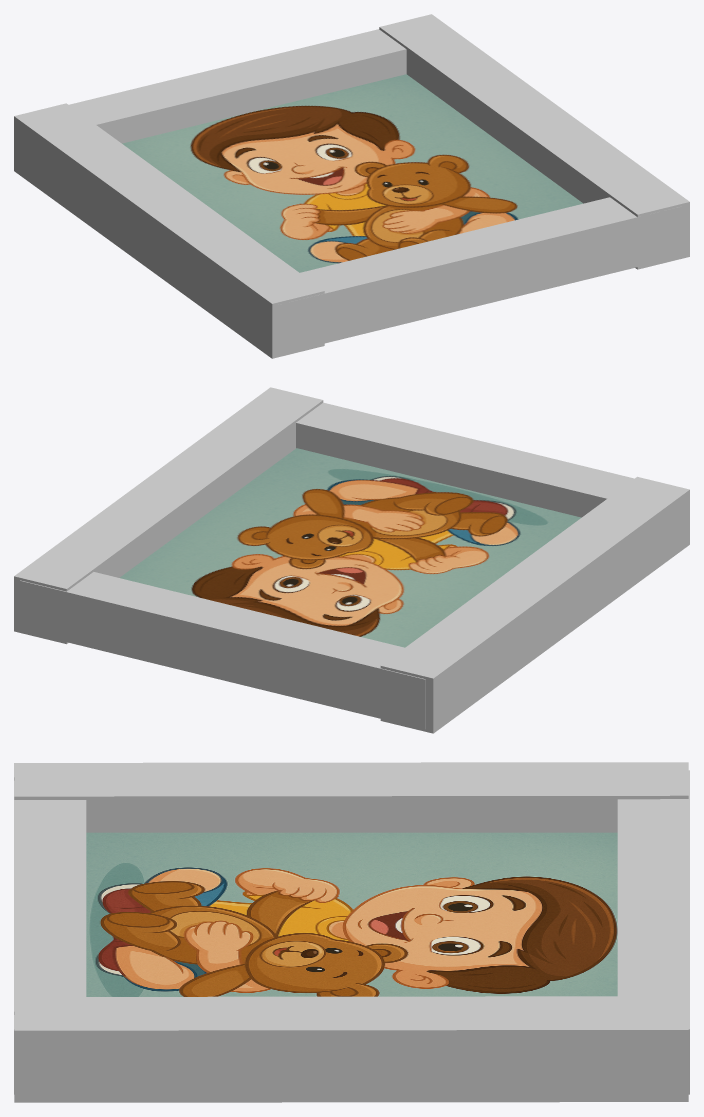
File: TommyYOso 1.fbx
3 renders of one model, top to bottom at view 1: azimuth 30°, elevation 25°; view 2: azimuth 150°, elevation 25°; view 3: azimuth 270°, elevation 25°, orthographic. The views are drawn at different scales.
Visible parts, largest first — view 1: Cube.003, Plane; view 2: Cube.003, Plane; view 3: Cube.003, Plane.
Boxes of the visible parts, left/top/right/bottom form: Cube.003: left=14, top=14, right=689, bottom=358; Plane: left=122, top=74, right=582, bottom=272; Cube.003: left=14, top=387, right=689, bottom=733; Plane: left=119, top=448, right=581, bottom=647; Cube.003: left=14, top=762, right=689, bottom=1102; Plane: left=86, top=832, right=617, bottom=996.
Size of the model in its own units: 8780 by 1100 by 9342.
1 material, 1 textured.
